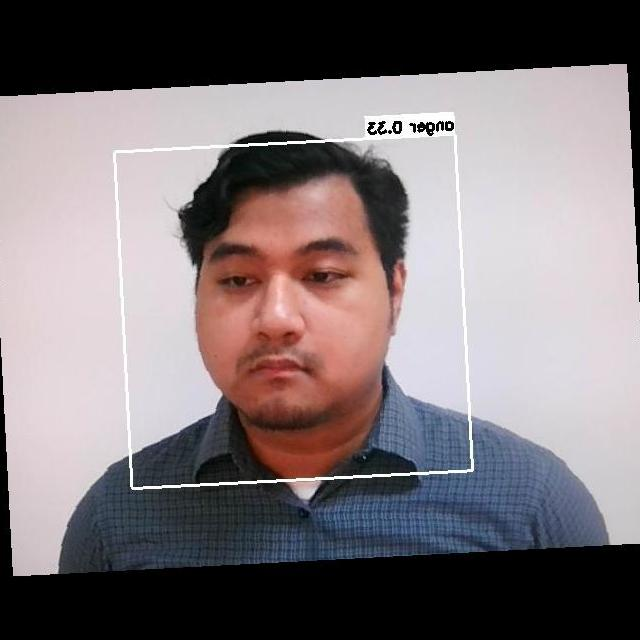Natural: (185, 231, 392, 393)
